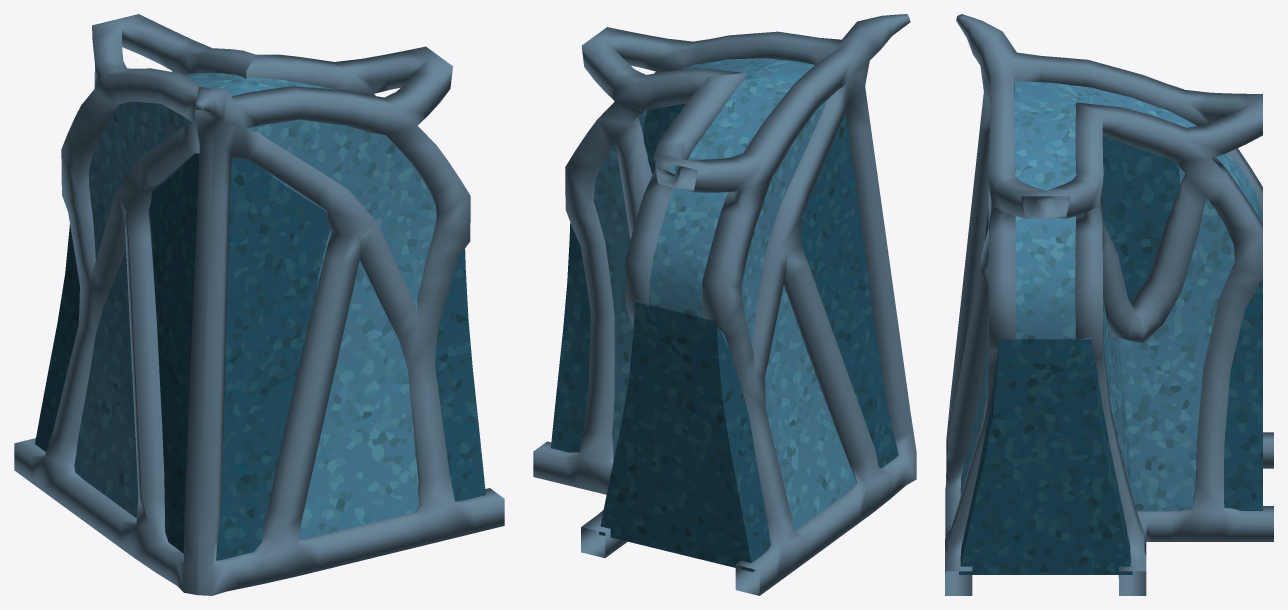
Rendered from LowCorner.fbx.
The picture shows the model from 3 angles, left to right: view 1: azimuth 30°, elevation 25°; view 2: azimuth 150°, elevation 25°; view 3: azimuth 270°, elevation 25°; orthographic projection. The views are drawn at different scales.
Parts seen in each view (by area): view 1: CornerBars.Mesh.001, CornerWall.003; view 2: CornerWall.003, CornerBars.Mesh.001; view 3: CornerWall.003, CornerBars.Mesh.001.
Boxes of the visible parts, box(x1,y1,x2,y2) form: CornerBars.Mesh.001: box(14, 14, 504, 595); CornerWall.003: box(35, 73, 485, 560); CornerWall.003: box(551, 58, 898, 571); CornerBars.Mesh.001: box(533, 14, 916, 595); CornerWall.003: box(959, 81, 1262, 574); CornerBars.Mesh.001: box(945, 14, 1273, 595).
Size of the model in its own units: 151 by 228 by 151.
2 materials, 1 textured.
